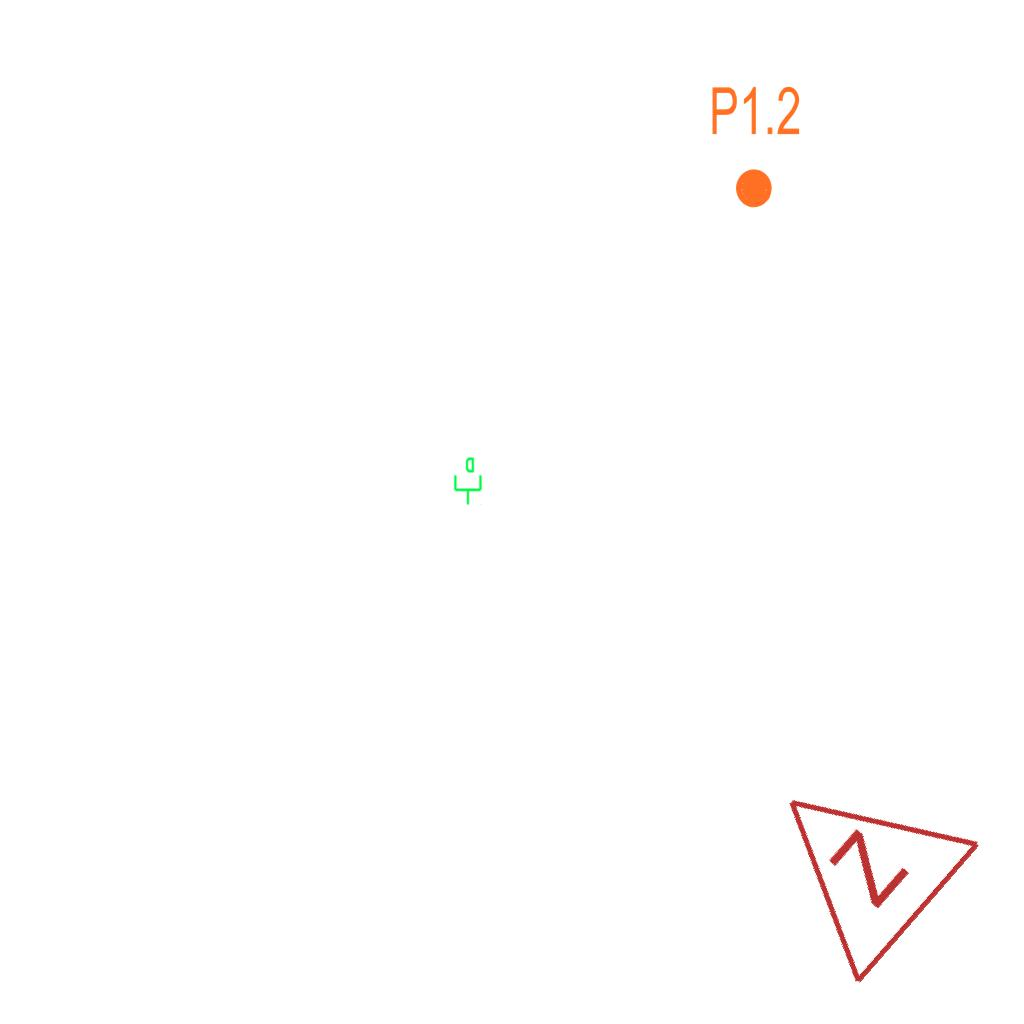Datenanschluss_einfach: (450, 456, 484, 506)
Downlight_LED_Einbauleuchten_Flur: (709, 83, 802, 211)
Zimmersignalleuchte: (714, 720, 994, 1000)
